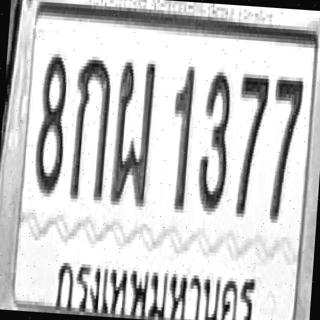A01: (68, 52, 113, 200)
A28: (109, 55, 156, 207)
N01: (166, 61, 196, 211)
N03: (196, 66, 233, 210)
N07: (232, 68, 270, 216), (266, 72, 304, 220)
N08: (33, 49, 70, 194)
P04: (52, 252, 258, 320)
